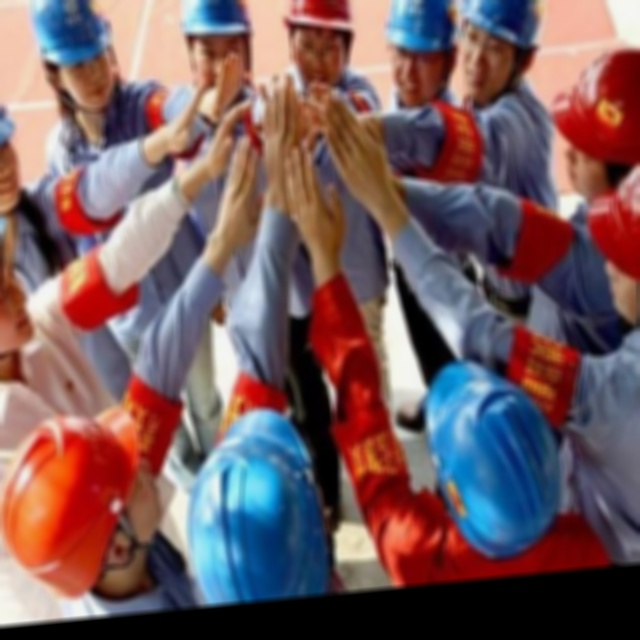Con_Casco: (28, 0, 119, 111), (455, 0, 550, 100)
